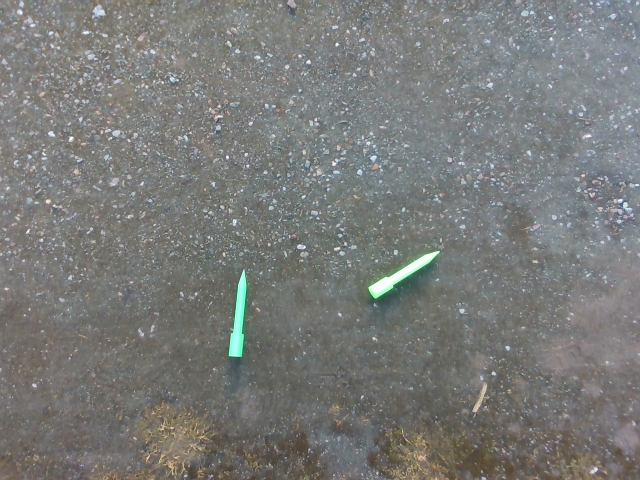Probe: (365, 246, 447, 303), (224, 266, 253, 364)
